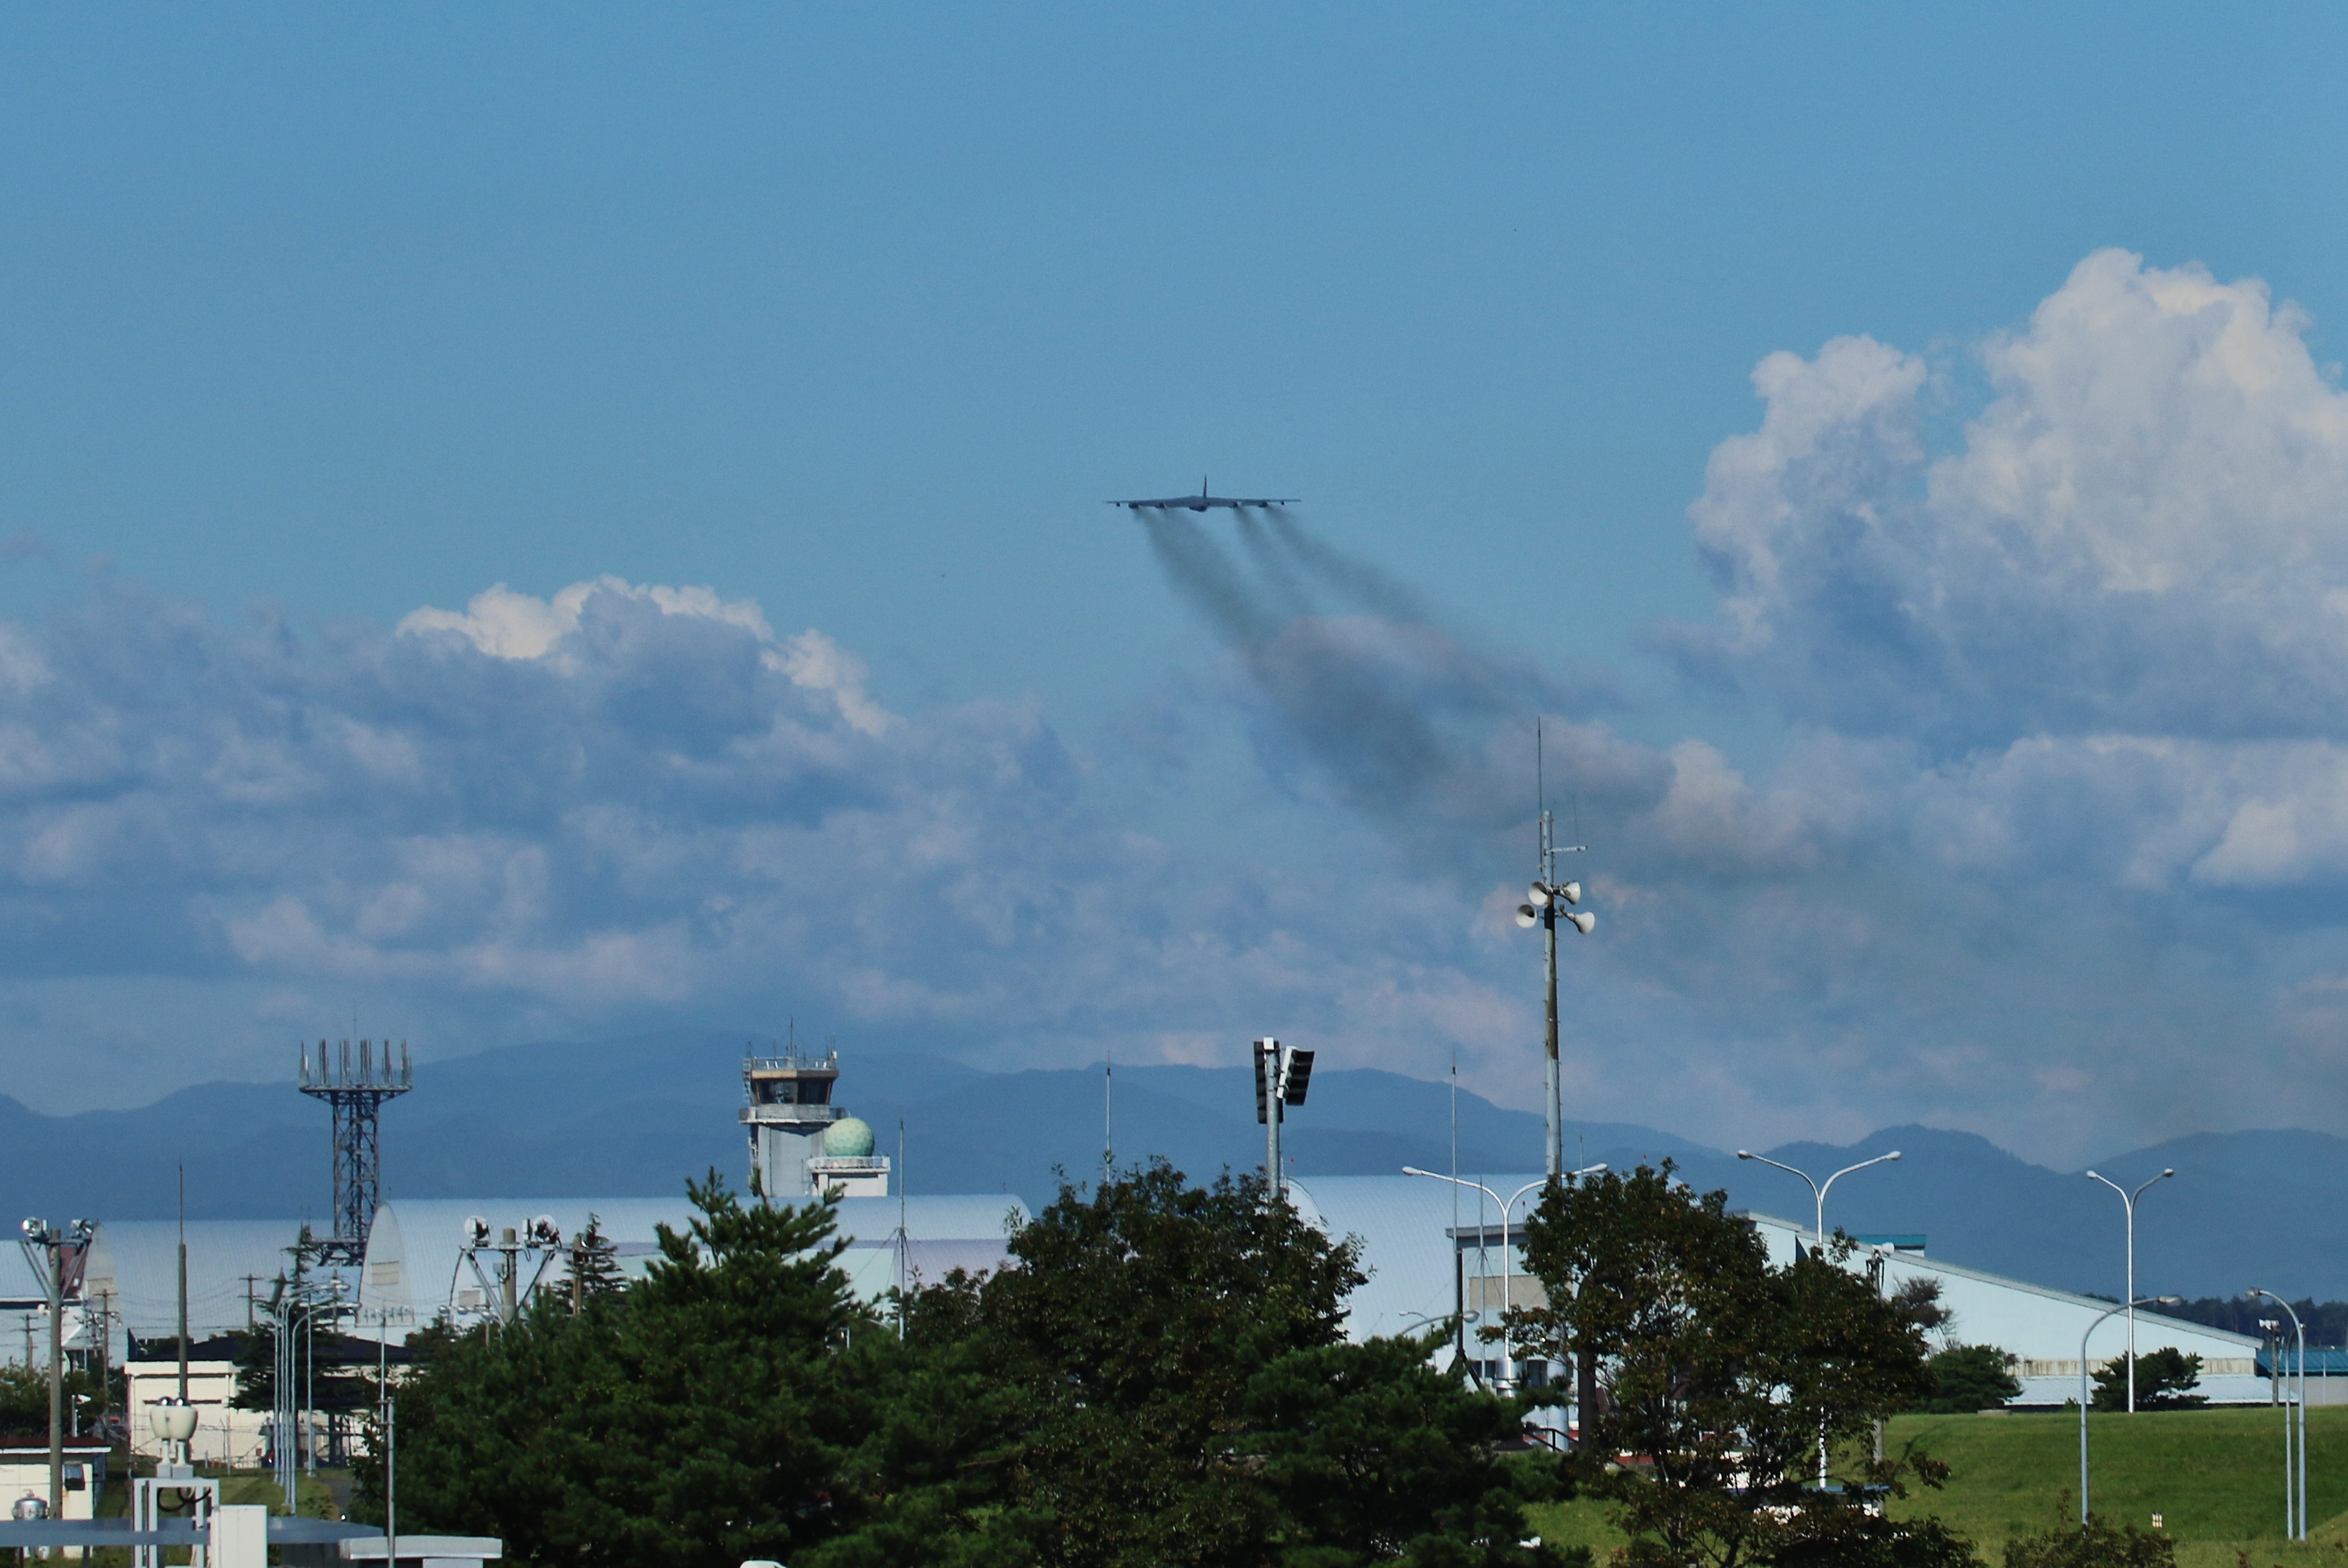B52: (1102, 472, 1302, 513)
